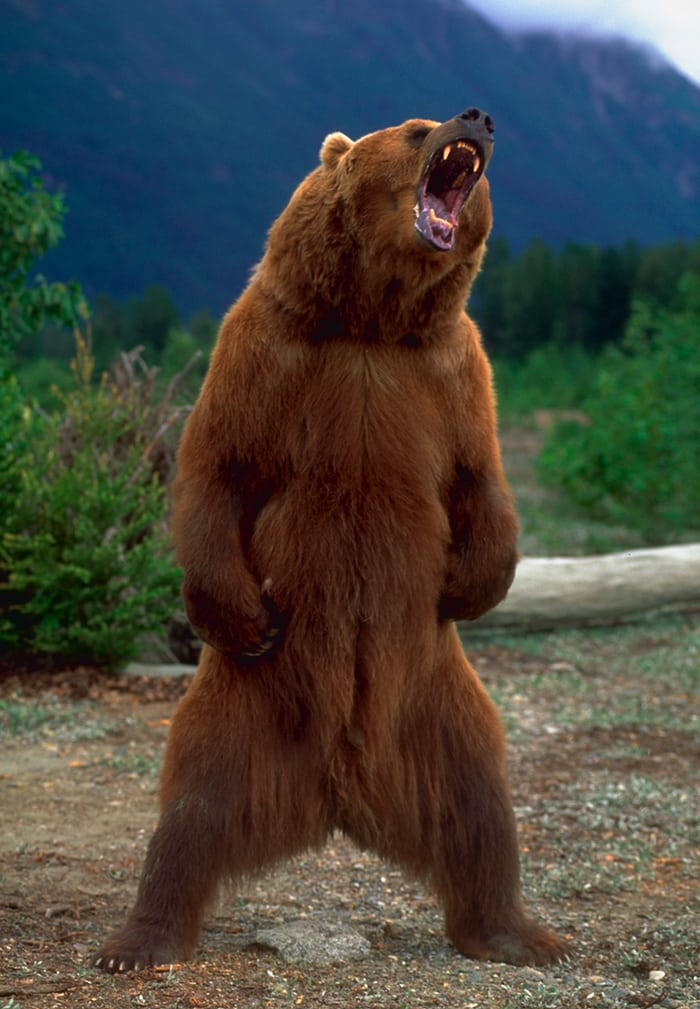bear: (311, 101, 507, 269)
